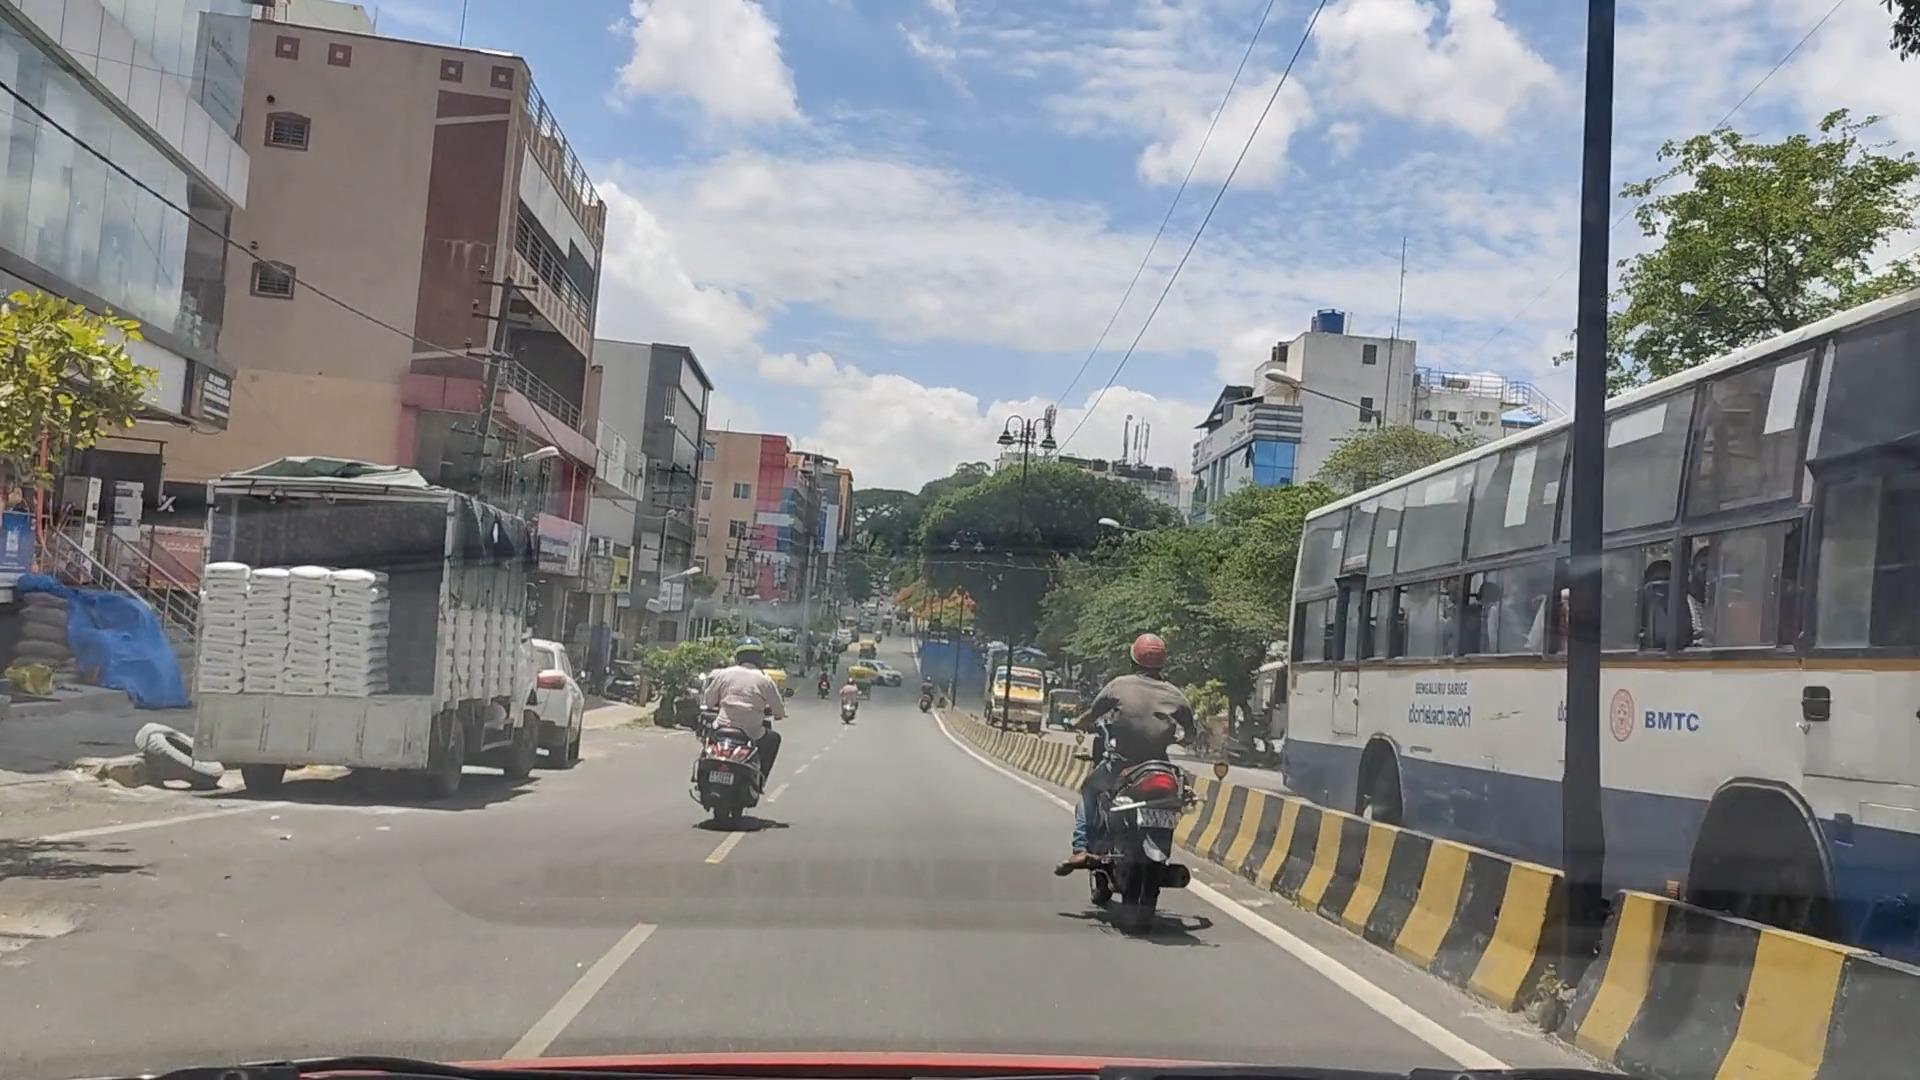HMV: (156, 429, 563, 819)
LMV: (1046, 618, 1213, 947), (666, 618, 795, 866)
